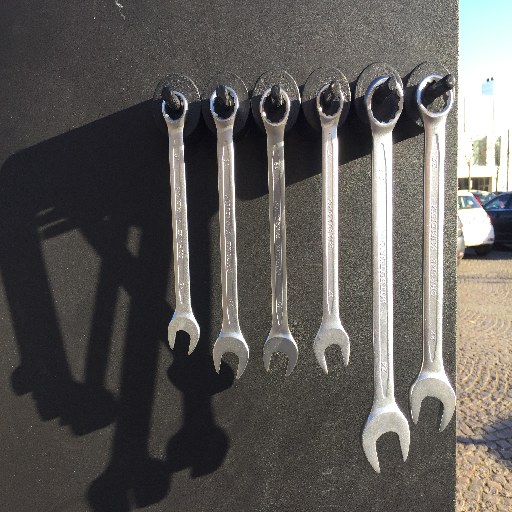bottom: (359, 409, 412, 475), (407, 371, 457, 434), (312, 322, 352, 376), (210, 333, 250, 380), (260, 332, 300, 379), (165, 312, 202, 357)
top: (363, 74, 404, 130), (413, 73, 455, 122), (258, 86, 292, 130), (208, 85, 242, 124), (314, 83, 345, 124), (159, 89, 190, 125)
